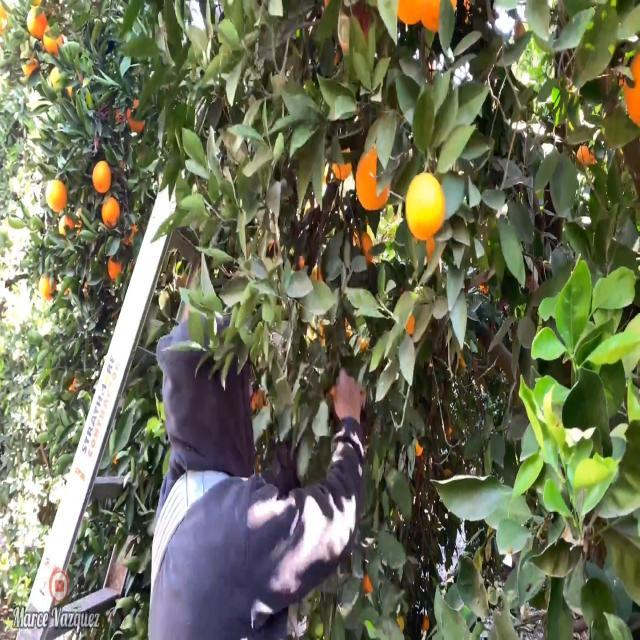Jeruk Sudah Matang: (402, 168, 448, 246), (352, 140, 392, 217), (44, 178, 72, 214), (100, 194, 124, 230), (91, 160, 113, 197), (26, 8, 48, 43), (39, 267, 60, 301)
